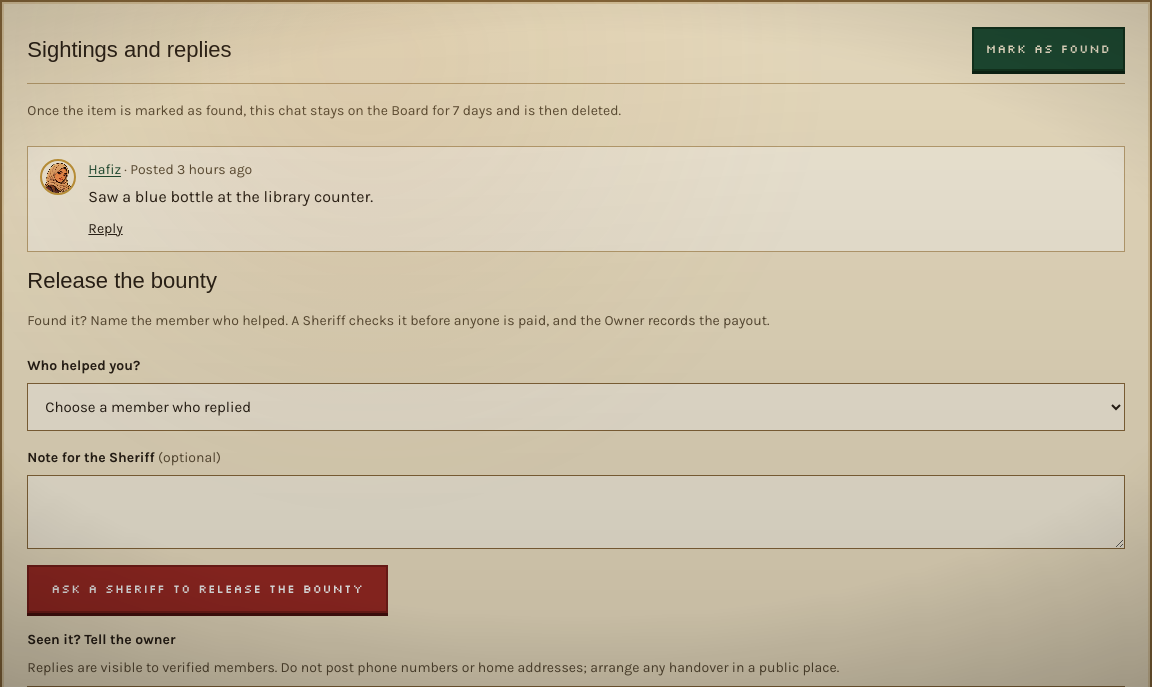
Test: lets the poster of a paid request name a replier for a Sheriff to approve
Check: the text "Saw a blue bottle at the library counter." is shown, box [88,187,373,206]
Select "Hafiz" in the dropdown labelled "Who helped you?" at (576, 407), box [27,383,1125,431]
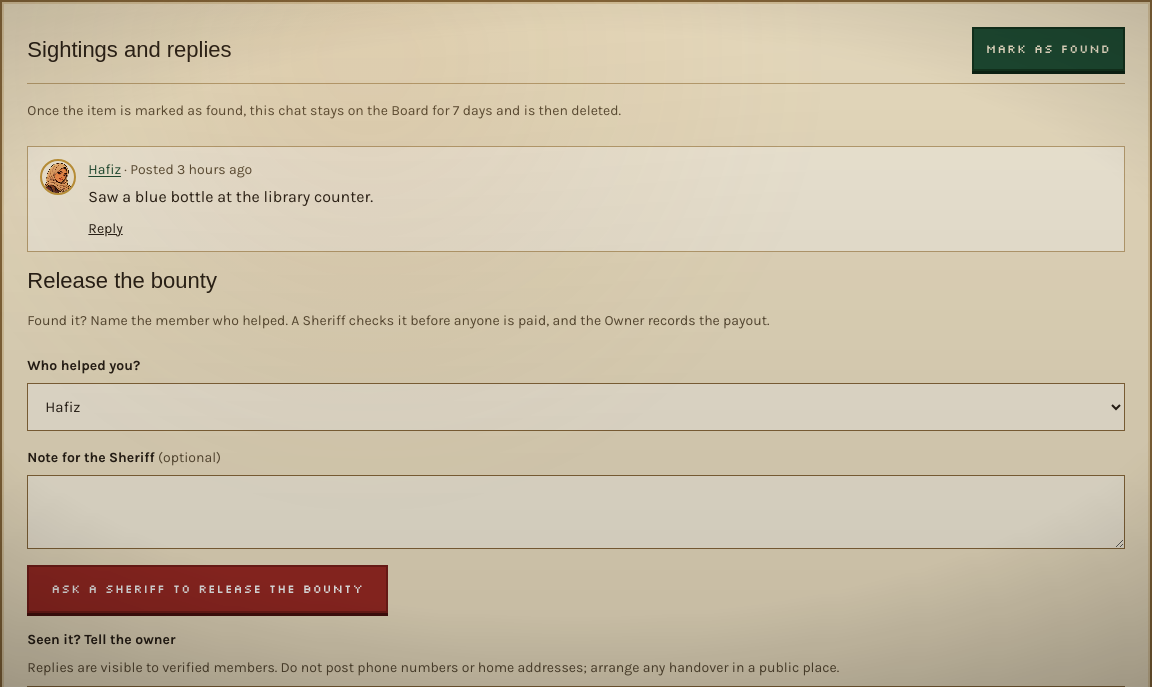
Click the button "Ask a Sheriff to release the bounty".
click(208, 589)  # box [27,565,388,613]
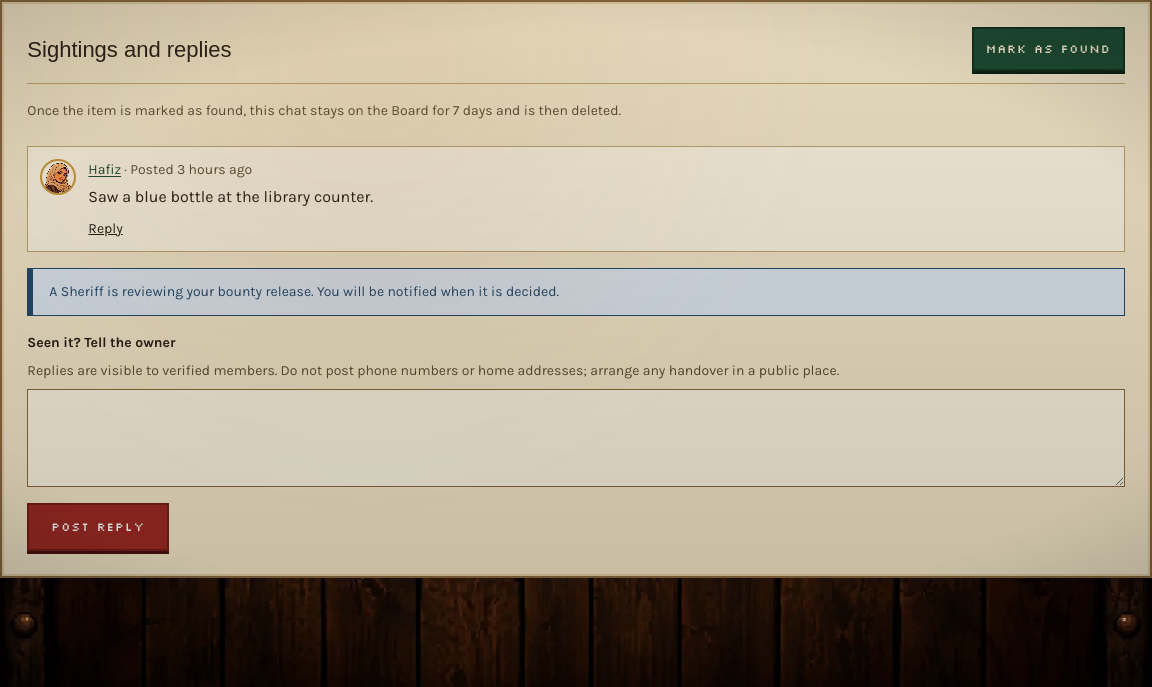
Check: the text "A Sheriff is reviewing your bounty release" is shown, box [49,283,559,300]
